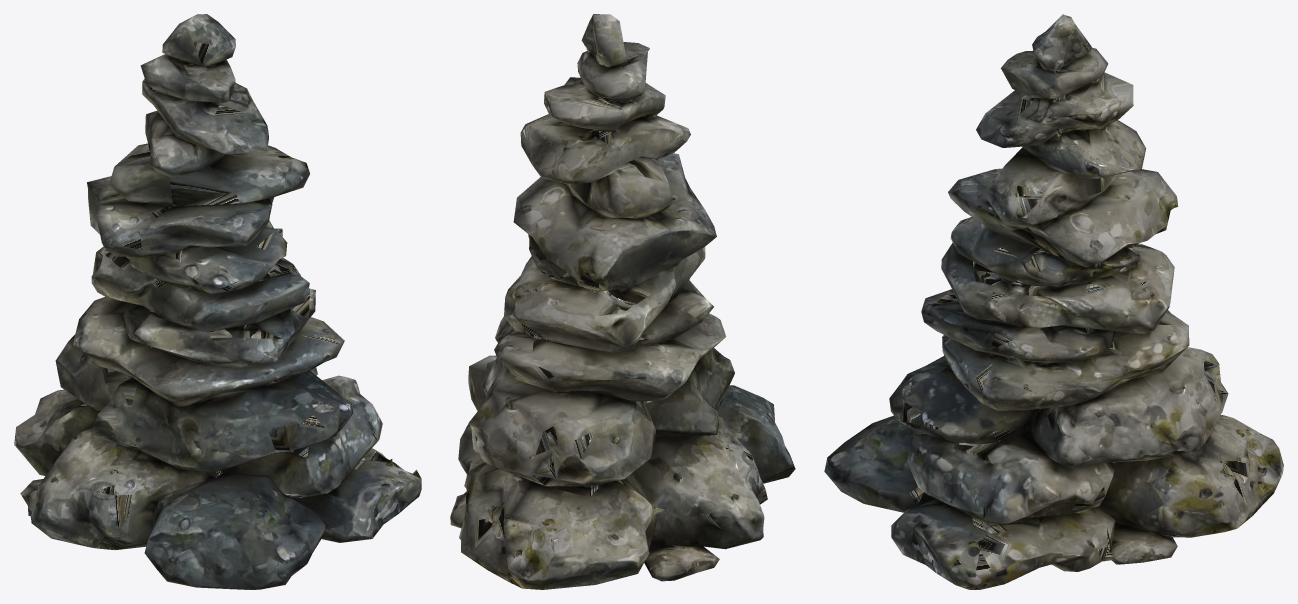
Rendered from cairn_lod1.glb.
3 renders of one model, left to right at view 1: azimuth 30°, elevation 25°; view 2: azimuth 150°, elevation 25°; view 3: azimuth 270°, elevation 25°, orthographic.
Parts seen in each view (by area): view 1: cairn_lod1; view 2: cairn_lod1; view 3: cairn_lod1.
Part boxes in pixels (x1,y1,x2,y2): cairn_lod1: (14, 14, 421, 589); cairn_lod1: (450, 14, 795, 589); cairn_lod1: (824, 14, 1283, 589).
Size of the model in its own units: 4.26 by 6 by 5.04.
Materials: 1 (1 with a texture image).
